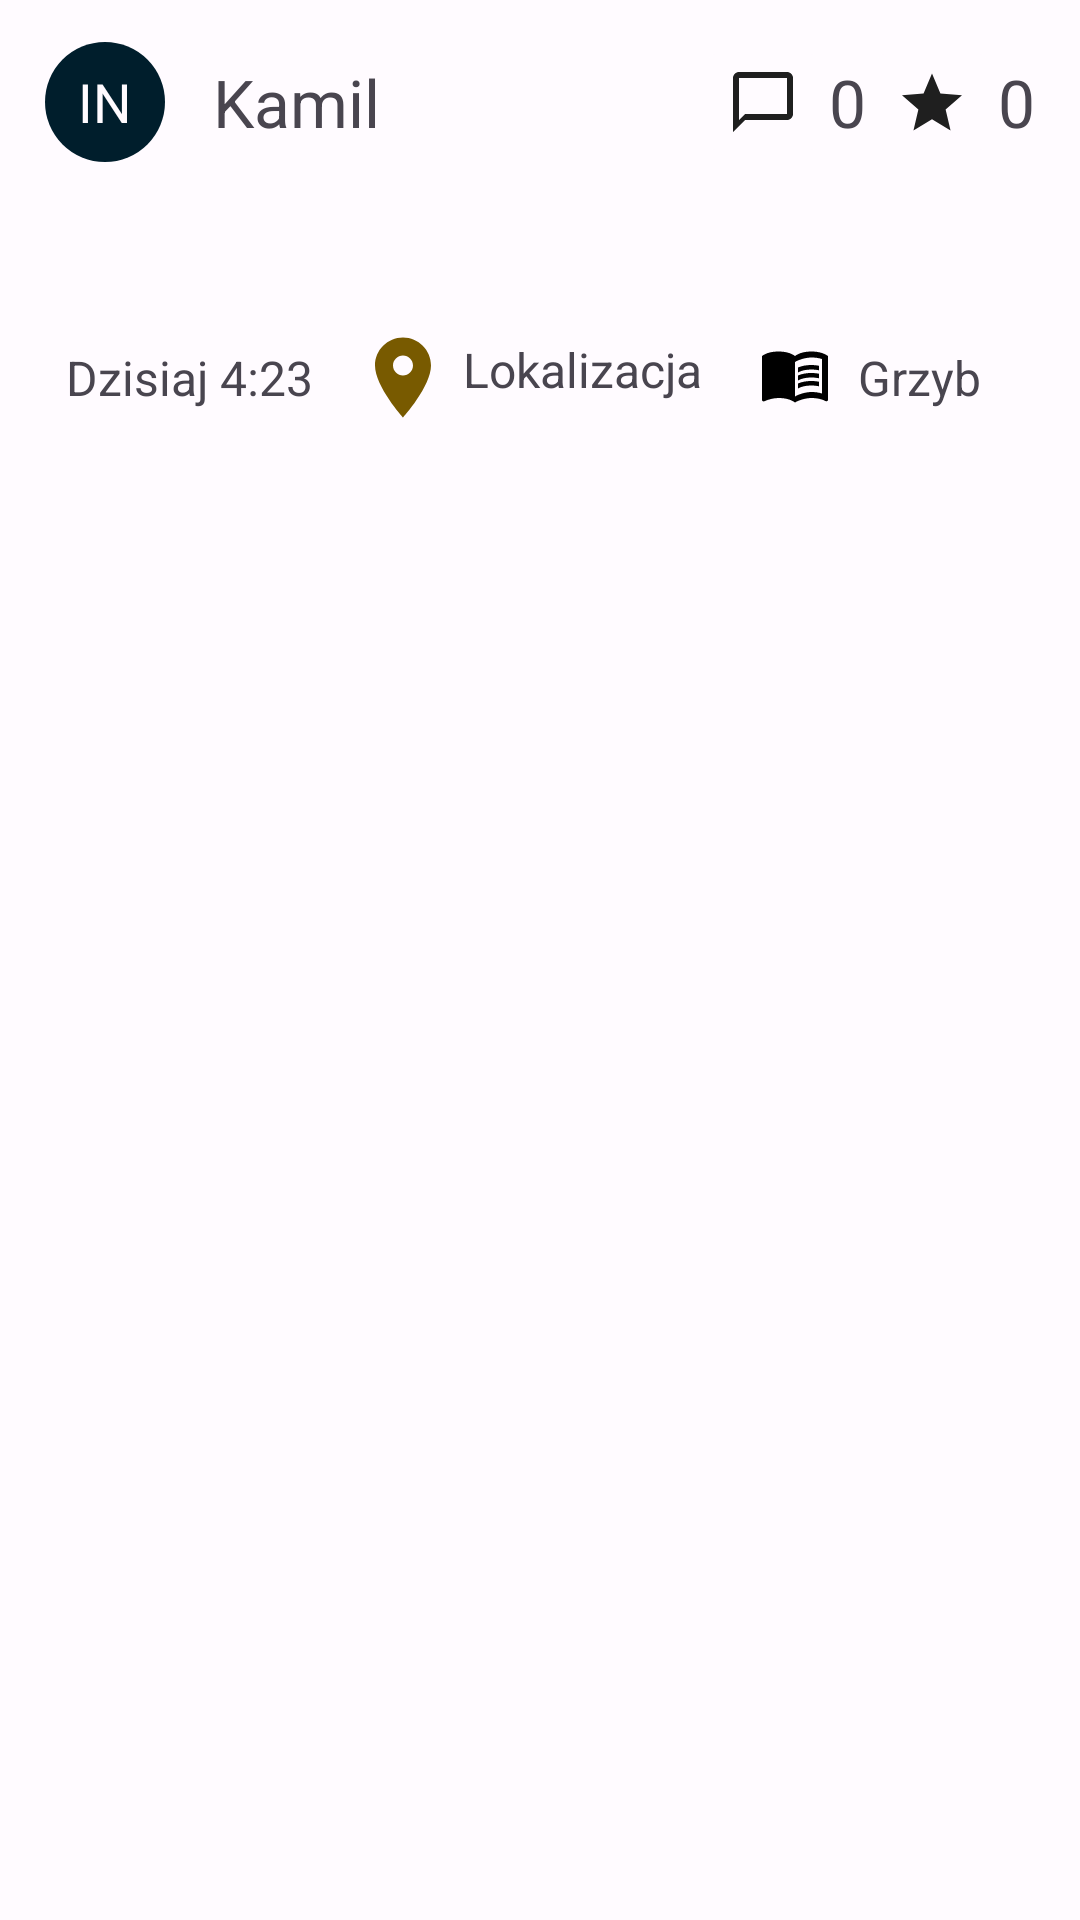

Icons on this 1080 × 1920 Android screen, each with its box as (x1, y1, x2, y2):
chat bubble: (733, 72, 793, 132)
star: (902, 74, 962, 131)
